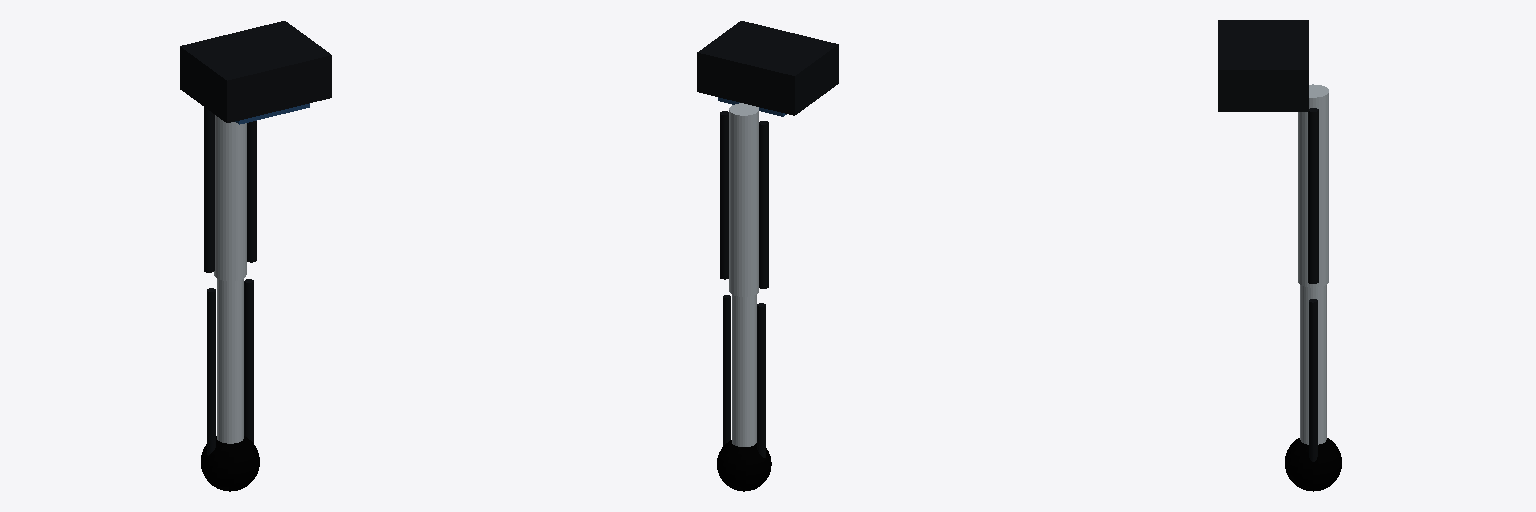
The robot description file, URDF, robot "domino_one_leg_clean":
<?xml version="1.0"?>
<robot name="domino_one_leg_clean">
  <material name="domino_carbon">
    <color rgba="0.08 0.09 0.10 1.0"/>
  </material>
  <material name="domino_printed">
    <color rgba="0.65 0.68 0.70 1.0"/>
  </material>
  <material name="domino_joint">
    <color rgba="0.15 0.28 0.42 1.0"/>
  </material>
  <material name="domino_foot">
    <color rgba="0.02 0.02 0.02 1.0"/>
  </material>

  <link name="body_mount">
    <inertial>
      <origin xyz="0 0 0" rpy="0 0 0"/>
      <mass value="0.20"/>
      <inertia ixx="0.0010" ixy="0" ixz="0" iyy="0.0010" iyz="0" izz="0.0010"/>
    </inertial>
    <visual>
      <origin xyz="0 0 0" rpy="0 0 0"/>
      <geometry>
        <box size="0.090 0.070 0.035"/>
      </geometry>
      <material name="domino_carbon"/>
    </visual>
    <collision>
      <origin xyz="0 0 0" rpy="0 0 0"/>
      <geometry>
        <box size="0.090 0.070 0.035"/>
      </geometry>
    </collision>
  </link>

  <link name="hip_carriage">
    <inertial>
      <origin xyz="0 0 -0.010" rpy="0 0 0"/>
      <mass value="0.10"/>
      <inertia ixx="0.0004" ixy="0" ixz="0" iyy="0.0004" iyz="0" izz="0.0004"/>
    </inertial>
    <visual>
      <origin xyz="0 0 -0.010" rpy="0 0 0"/>
      <geometry>
        <box size="0.060 0.055 0.030"/>
      </geometry>
      <material name="domino_joint"/>
    </visual>
    <collision>
      <origin xyz="0 0 -0.010" rpy="0 0 0"/>
      <geometry>
        <box size="0.060 0.055 0.030"/>
      </geometry>
    </collision>
  </link>

  <joint name="hip_ab_ad" type="revolute">
    <origin xyz="0 0 0" rpy="0 0 0"/>
    <parent link="body_mount"/>
    <child link="hip_carriage"/>
    <axis xyz="1 0 0"/>
    <limit lower="-0.523599" upper="0.523599" effort="8.0" velocity="6.0"/>
    <dynamics damping="0.05" friction="0.0"/>
  </joint>

  <link name="upper_link">
    <inertial>
      <origin xyz="0 0 -0.080" rpy="0 0 0"/>
      <mass value="0.12"/>
      <inertia ixx="0.0005" ixy="0" ixz="0" iyy="0.0005" iyz="0" izz="0.00008"/>
    </inertial>
    <visual>
      <origin xyz="0 0 -0.080" rpy="0 0 0"/>
      <geometry>
        <cylinder radius="0.012" length="0.160"/>
      </geometry>
      <material name="domino_printed"/>
    </visual>
    <visual>
      <origin xyz="0.018 0 -0.080" rpy="0 0 0"/>
      <geometry>
        <cylinder radius="0.004" length="0.145"/>
      </geometry>
      <material name="domino_carbon"/>
    </visual>
    <visual>
      <origin xyz="-0.018 0 -0.080" rpy="0 0 0"/>
      <geometry>
        <cylinder radius="0.004" length="0.145"/>
      </geometry>
      <material name="domino_carbon"/>
    </visual>
    <collision>
      <origin xyz="0 0 -0.080" rpy="0 0 0"/>
      <geometry>
        <cylinder radius="0.014" length="0.160"/>
      </geometry>
    </collision>
  </link>

  <joint name="upper_pitch" type="revolute">
    <origin xyz="0 0.038 -0.021" rpy="0 0 0"/>
    <parent link="hip_carriage"/>
    <child link="upper_link"/>
    <axis xyz="0 1 0"/>
    <limit lower="-0.523599" upper="1.047198" effort="8.0" velocity="6.0"/>
    <dynamics damping="0.05" friction="0.0"/>
  </joint>

  <link name="lower_link">
    <inertial>
      <origin xyz="0 0 -0.0765" rpy="0 0 0"/>
      <mass value="0.10"/>
      <inertia ixx="0.0004" ixy="0" ixz="0" iyy="0.0004" iyz="0" izz="0.00006"/>
    </inertial>
    <visual>
      <origin xyz="0 0 -0.0765" rpy="0 0 0"/>
      <geometry>
        <cylinder radius="0.010" length="0.153"/>
      </geometry>
      <material name="domino_printed"/>
    </visual>
    <visual>
      <origin xyz="0.016 0 -0.0765" rpy="0 0 0"/>
      <geometry>
        <cylinder radius="0.0035" length="0.135"/>
      </geometry>
      <material name="domino_carbon"/>
    </visual>
    <visual>
      <origin xyz="-0.016 0 -0.0765" rpy="0 0 0"/>
      <geometry>
        <cylinder radius="0.0035" length="0.135"/>
      </geometry>
      <material name="domino_carbon"/>
    </visual>
    <collision>
      <origin xyz="0 0 -0.0765" rpy="0 0 0"/>
      <geometry>
        <cylinder radius="0.012" length="0.153"/>
      </geometry>
    </collision>
  </link>

  <joint name="lower_linkage" type="revolute">
    <origin xyz="0 0 -0.160" rpy="0 0 0"/>
    <parent link="upper_link"/>
    <child link="lower_link"/>
    <axis xyz="0 1 0"/>
    <limit lower="-2.094395" upper="0.0" effort="8.0" velocity="6.0"/>
    <dynamics damping="0.05" friction="0.0"/>
  </joint>

  <link name="foot">
    <inertial>
      <origin xyz="0 0 0" rpy="0 0 0"/>
      <mass value="0.02"/>
      <inertia ixx="0.00003" ixy="0" ixz="0" iyy="0.00003" iyz="0" izz="0.00003"/>
    </inertial>
    <visual>
      <origin xyz="0 0 0" rpy="0 0 0"/>
      <geometry>
        <sphere radius="0.022"/>
      </geometry>
      <material name="domino_foot"/>
    </visual>
    <collision>
      <origin xyz="0 0 0" rpy="0 0 0"/>
      <geometry>
        <sphere radius="0.022"/>
      </geometry>
    </collision>
  </link>

  <joint name="foot_fixed" type="fixed">
    <origin xyz="0 0 -0.153" rpy="0 0 0"/>
    <parent link="lower_link"/>
    <child link="foot"/>
  </joint>
</robot>

--- Render facts (derived) ---
Views: 3 orthographic renders of the robot side by side, from view 1: azimuth 30°, elevation 25°; view 2: azimuth 150°, elevation 25°; view 3: azimuth 270°, elevation 25°.
Model domino_one_leg_clean with 5 links and 4 joints (3 revolute, 1 fixed), rooted at body_mount, posed every joint at zero.
Links seen in each view (by area): view 1: body_mount, upper_link, lower_link, foot; view 2: body_mount, upper_link, lower_link, foot; view 3: body_mount, upper_link, lower_link, foot.
Link boxes in pixels (x1=…): body_mount: x1=180, y1=21, x2=331, y2=122; upper_link: x1=204, y1=107, x2=256, y2=281; lower_link: x1=207, y1=279, x2=253, y2=455; foot: x1=201, y1=436, x2=259, y2=491; body_mount: x1=697, y1=21, x2=838, y2=115; upper_link: x1=720, y1=103, x2=768, y2=296; lower_link: x1=723, y1=294, x2=765, y2=457; foot: x1=717, y1=440, x2=771, y2=491; body_mount: x1=1218, y1=20, x2=1308, y2=111; upper_link: x1=1298, y1=84, x2=1328, y2=287; lower_link: x1=1300, y1=285, x2=1326, y2=461; foot: x1=1285, y1=438, x2=1341, y2=491.
Bounding box of the posed robot: 0.09 × 0.095 × 0.3735 m (x, y, z).
Geometry: primitives only (box / cylinder / sphere), no mesh files.
